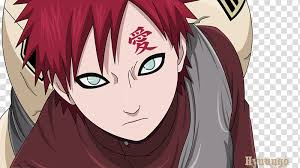gaara: (47, 2, 188, 144)
